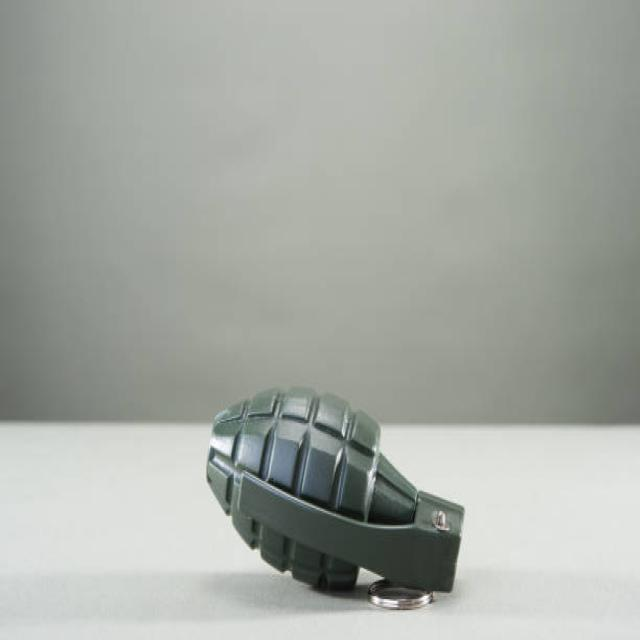grenade: (205, 378, 474, 622)
